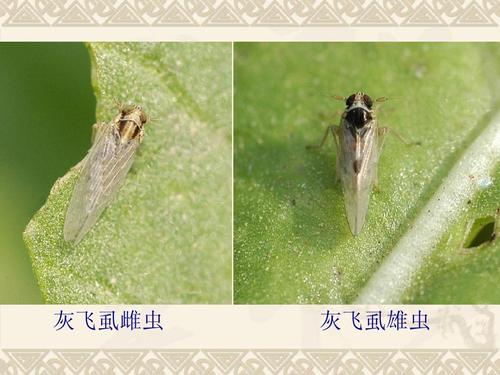Delphacidae: (304, 88, 423, 238), (62, 96, 164, 246)
